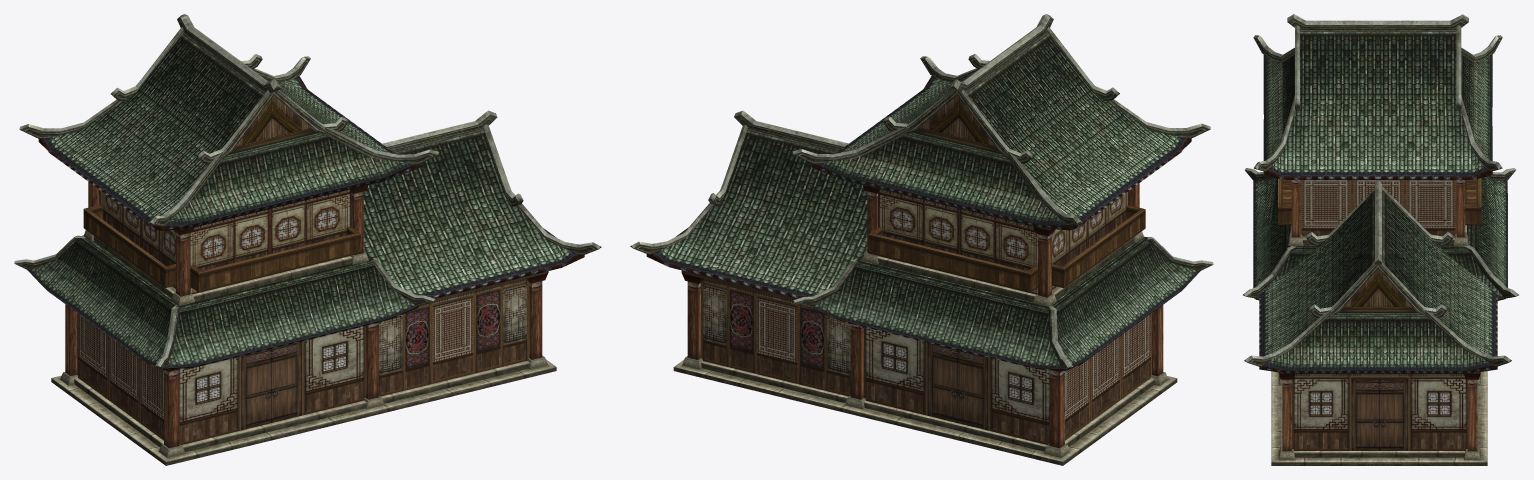
File: c1-007-itemshop.fbx
The picture shows the model from 3 angles, left to right: view 1: azimuth 30°, elevation 25°; view 2: azimuth 150°, elevation 25°; view 3: azimuth 270°, elevation 25°; orthographic projection. The views are drawn at different scales.
Parts seen in each view (by area): view 1: Object02; view 2: Object02; view 3: Object02.
Boxes of the visible parts, bbox=[...] form: Object02: bbox=[14, 14, 601, 465]; Object02: bbox=[630, 14, 1213, 465]; Object02: bbox=[1243, 14, 1518, 465].
Bounding box in the file's own units: 18.41 × 13.68 × 10.48.
